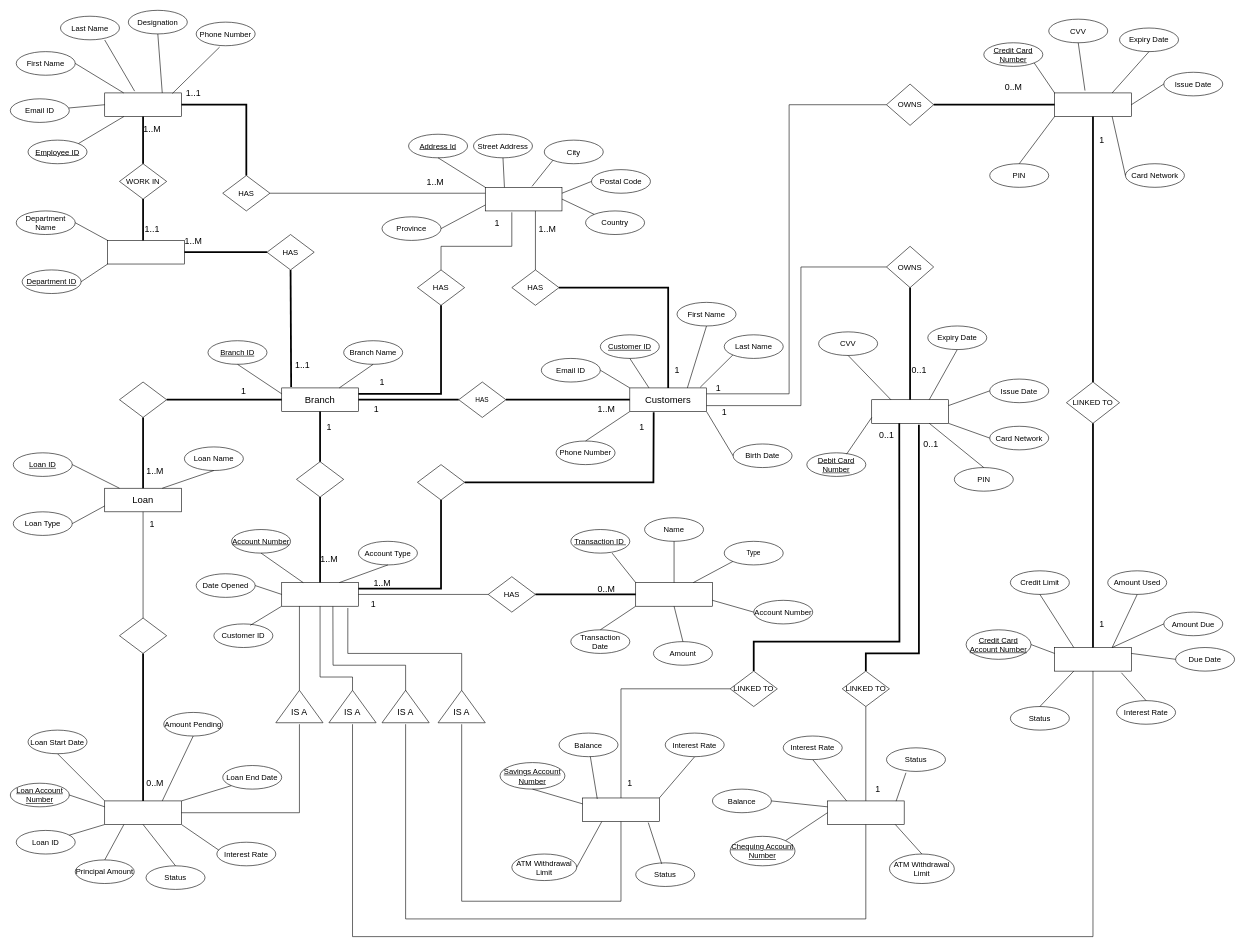
Image size: 1245x948. Some labels were removed from this diagram. Each missing label, with the centre of its shape:
"Account" goes at (x=319, y=594).
"Address" goes at (x=523, y=199).
"ATTACHED" goes at (x=143, y=635).
"Chequing Account" goes at (x=865, y=812).
"Credit Card" goes at (x=1092, y=104).
"Credit Card Account" goes at (x=1092, y=659).
"Debit Card" goes at (x=909, y=411).
"Departments" goes at (x=145, y=252).
"Employees" goes at (x=142, y=104).
"Loan Account" goes at (x=142, y=812).
"OFFERS" goes at (x=143, y=399).
"OPENS" goes at (x=320, y=479).
"OWN" goes at (x=441, y=482).
"Savings Account" goes at (x=620, y=809).
"Transactions" goes at (x=673, y=594).
